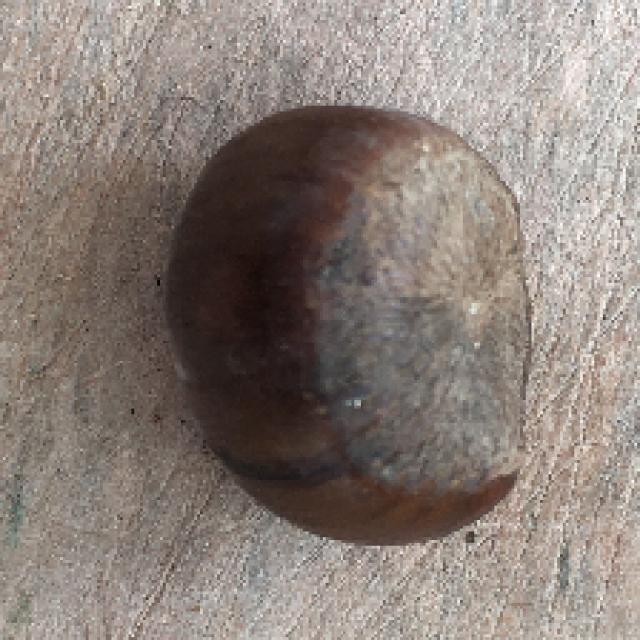damagedHazelnut: (149, 98, 545, 549)
